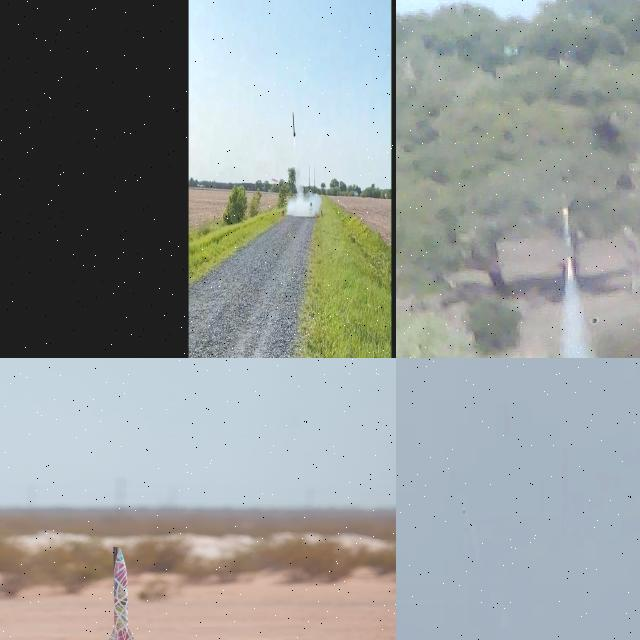Rocket: (100, 546, 142, 640), (561, 205, 576, 258), (292, 110, 296, 137), (462, 507, 467, 514)
